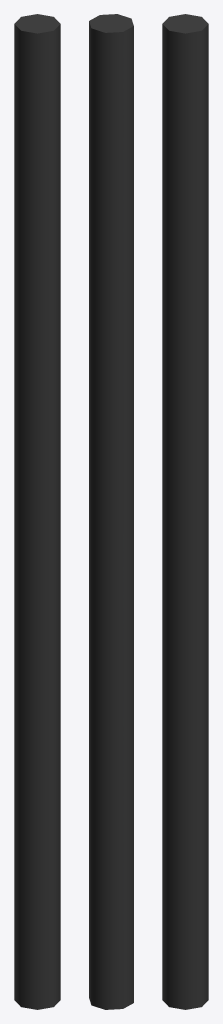
Rendered from SM_Cable.FBX.
3 renders of one model, left to right at view 1: azimuth 90°, elevation 25°; view 2: azimuth 210°, elevation 25°; view 3: azimuth 270°, elevation 25°, orthographic.
Visible parts, largest first — view 1: SM_Cable; view 2: SM_Cable; view 3: SM_Cable.
Boxes of the visible parts, x1,y1,x2,y2 form: SM_Cable: (14,14,60,1009); SM_Cable: (89,14,133,1009); SM_Cable: (162,14,208,1009).
Size of the model in its own units: 4.3 by 4.3 by 100.
